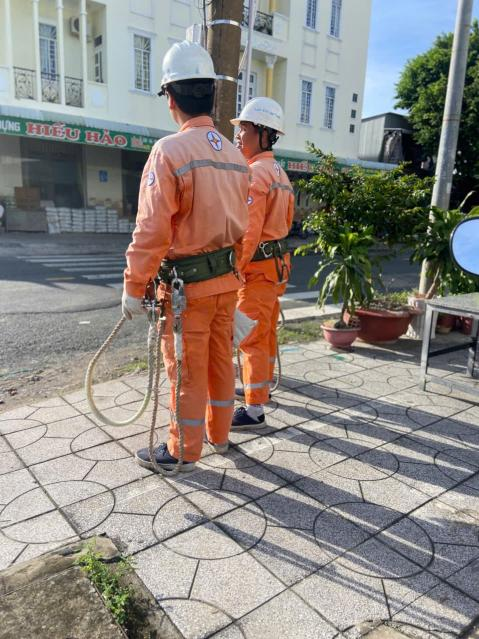harness: (145, 238, 259, 290), (218, 230, 297, 267)
helmet: (153, 15, 227, 91), (233, 93, 297, 134)
shoes: (120, 427, 190, 482), (213, 397, 270, 431), (223, 377, 282, 409), (190, 419, 235, 460)
